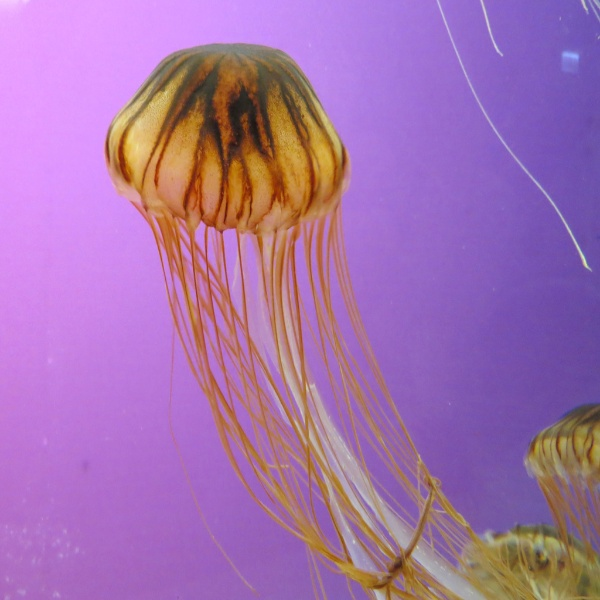Jellyfish: (104, 42, 544, 600), (437, 0, 600, 270), (523, 402, 600, 600), (460, 522, 600, 600)
